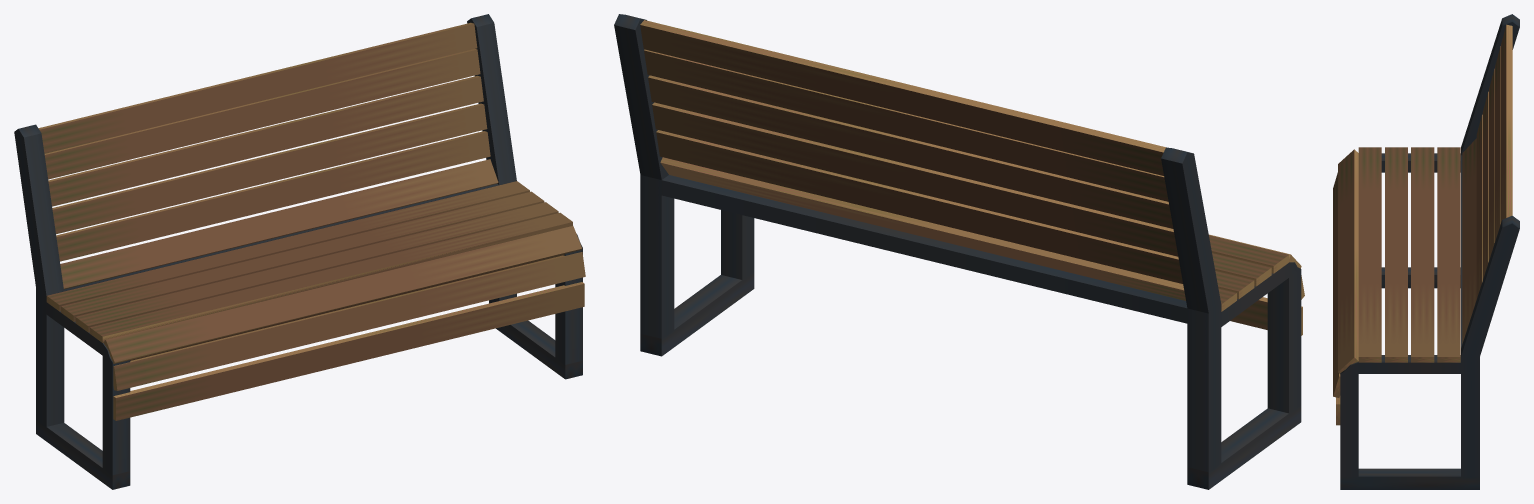
The model's file is Metalwoodbench2.fbx.
The picture shows the model from 3 angles, left to right: view 1: azimuth 30°, elevation 25°; view 2: azimuth 150°, elevation 25°; view 3: azimuth 270°, elevation 25°; orthographic projection. The views are drawn at different scales.
Parts seen in each view (by area): view 1: Metalwoodbench2; view 2: Metalwoodbench2; view 3: Metalwoodbench2.
Boxes of the visible parts, x1,y1,x2,y2 form: Metalwoodbench2: [14, 14, 585, 489]; Metalwoodbench2: [614, 14, 1304, 489]; Metalwoodbench2: [1333, 14, 1519, 489].
Bounding box in the file's own units: 167 × 99.39 × 63.11.
Materials: 1 (1 with a texture image).
